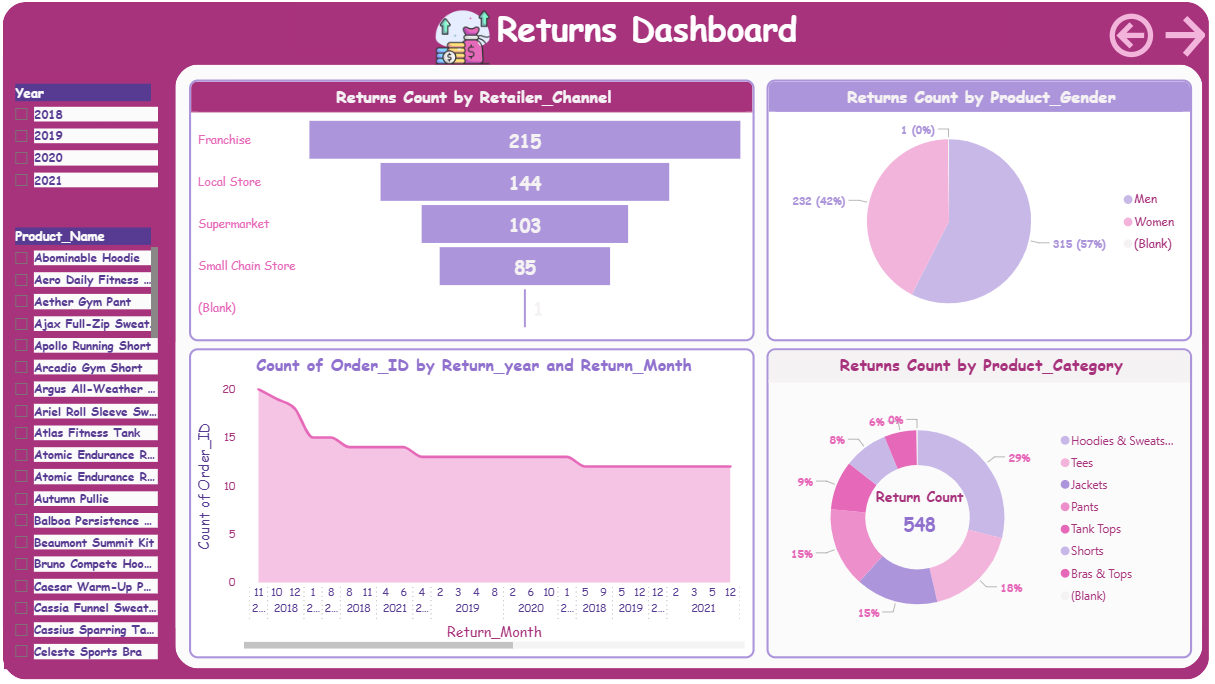

The dashboard page shown, as its layout file describes it:
{"tool":"powerbi","page":{"name":"Returns Analysis","canvas":[1400,800],"ordinal":6},"visuals":[{"type":"shape","box":[10.6,12.1,1378.8,774.2],"z":0},{"type":"shape","box":[206.5,82.9,1173.9,690.2],"z":1000},{"type":"textbox","title":"Returns Dashboard","box":[337.9,15.2,815.2,53],"z":2000},{"type":"slicer","fields":{"Values":["Unique Products.Product_Name"]},"box":[10.9,263.6,180.7,509.5],"z":3000},{"type":"lineChart","fields":{"Category":["Returns.Return_year","Returns.Return_Month"],"Y":["CountNonNull(Returns.Order_ID)"]},"box":[222.8,407.6,646.7,354.6],"z":4000},{"type":"card","title":"Return Count","fields":{"Values":["Calculations.Returns Count"]},"box":[990.5,565.2,135.9,66.6],"z":5000},{"type":"donutChart","fields":{"Y":["Calculations.Returns Count"],"Category":["Unique Products.Product_Category"]},"box":[883.2,407.6,486.4,354.6],"z":6000},{"type":"pieChart","fields":{"Y":["Calculations.Returns Count"],"Category":["Unique Products.Product_Gender"]},"box":[883.2,100.5,486.4,298.9],"z":7000},{"type":"funnel","fields":{"Y":["Calculations.Returns Count"],"Category":["Retailers.Retailer_Channel"]},"box":[222.8,100.5,646.7,298.9],"z":8000},{"type":"slicer","fields":{"Values":["Calender.Date.Variation.Date Hierarchy.Year"]},"box":[10.9,100.5,180.7,163],"z":10000},{"type":"image","box":[500,11.4,71.4,80],"z":12000},{"type":"actionButton","box":[1320,22.9,80,55.7],"z":13000},{"type":"actionButton","box":[1270.4,16.3,59.8,67.9],"z":14000}]}

Visuals, with their boxes in screenshot pixels (x1, y1, x2, y2), scaled from the page's 1400x800 canvas onto the 1215x684 screenshot:
shape: x1=9, y1=10, x2=1206, y2=672
shape: x1=179, y1=71, x2=1198, y2=661
"Returns Dashboard" textbox: x1=293, y1=13, x2=1001, y2=58
slicer - Unique Products.Product_Name: x1=9, y1=225, x2=166, y2=661
lineChart - Returns.Return_year x Returns.Return_Month: x1=193, y1=348, x2=755, y2=652
"Return Count" card: x1=860, y1=483, x2=978, y2=540
donutChart - Calculations.Returns Count x Unique Products.Product_Category: x1=766, y1=348, x2=1189, y2=652
pieChart - Calculations.Returns Count x Unique Products.Product_Gender: x1=766, y1=86, x2=1189, y2=341
funnel - Calculations.Returns Count x Retailers.Retailer_Channel: x1=193, y1=86, x2=755, y2=341
slicer - Calender.Date.Variation.Date Hierarchy.Year: x1=9, y1=86, x2=166, y2=225
image: x1=434, y1=10, x2=496, y2=78
actionButton: x1=1146, y1=20, x2=1214, y2=67
actionButton: x1=1103, y1=14, x2=1154, y2=72
